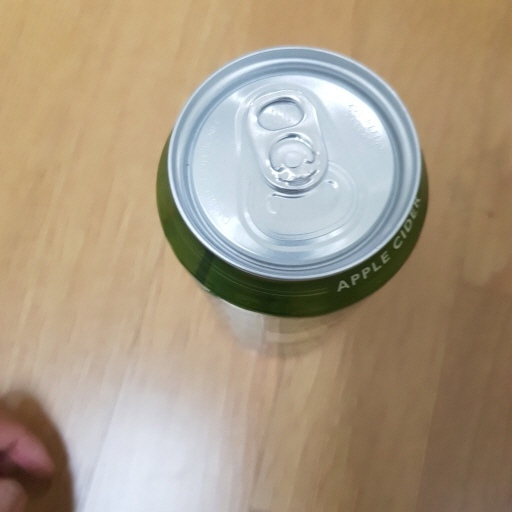Metal_0: (150, 46, 430, 360)
